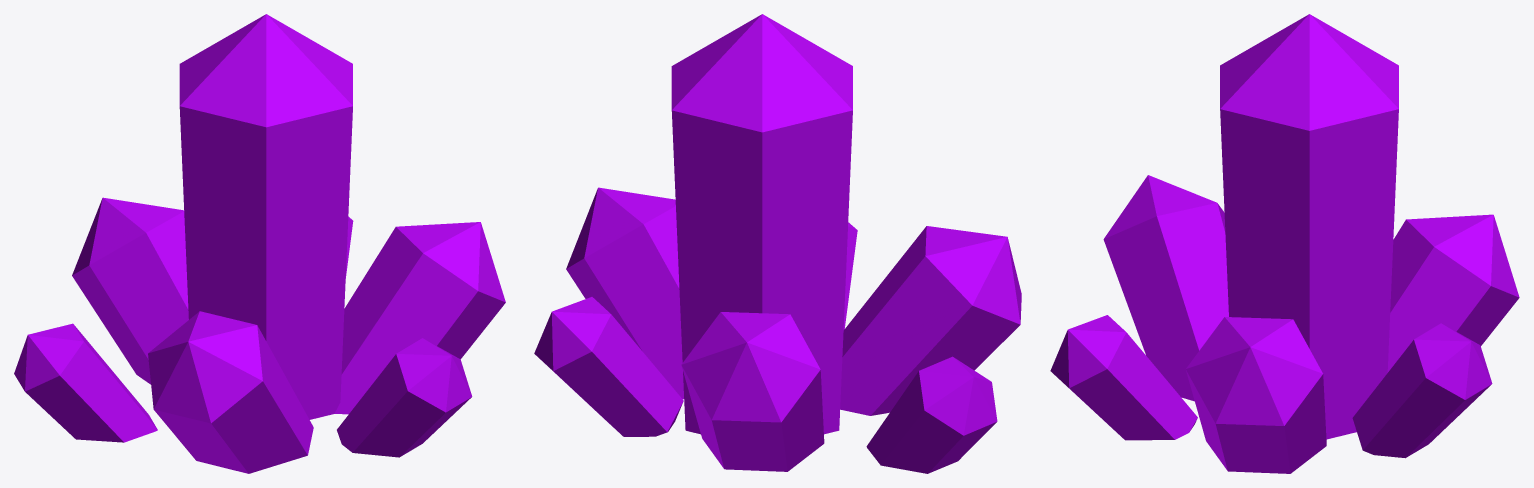
Rendered from alchemica_crystal_kek 1.fbx.
3 views of the same model, side by side, from view 1: azimuth 30°, elevation 25°; view 2: azimuth 150°, elevation 25°; view 3: azimuth 270°, elevation 25° (orthographic). The views are drawn at different scales.
Parts seen in each view (by area): view 1: alchemica_crystal_kek; view 2: alchemica_crystal_kek; view 3: alchemica_crystal_kek.
Part boxes in pixels (x1,y1,x2,y2): alchemica_crystal_kek: (14, 14, 505, 473); alchemica_crystal_kek: (534, 14, 1021, 473); alchemica_crystal_kek: (1050, 14, 1519, 473).
Bounding box in the file's own units: 2.11 × 1.77 × 1.92.
